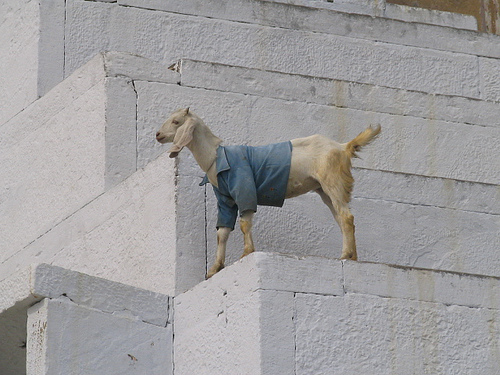goat: (155, 105, 382, 282)
